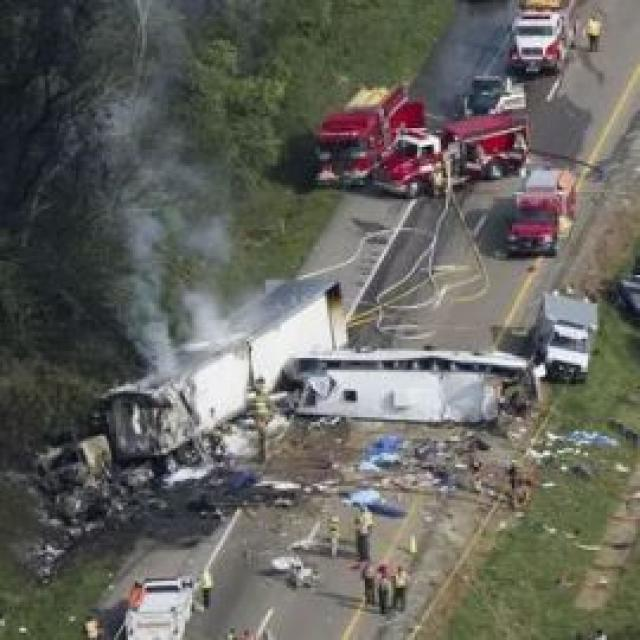traffic_incident: (45, 256, 344, 514), (280, 336, 538, 434)
